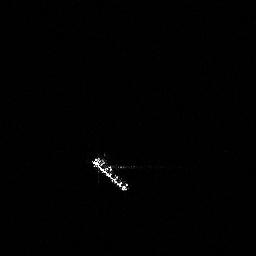ship: (91, 158, 130, 193)
